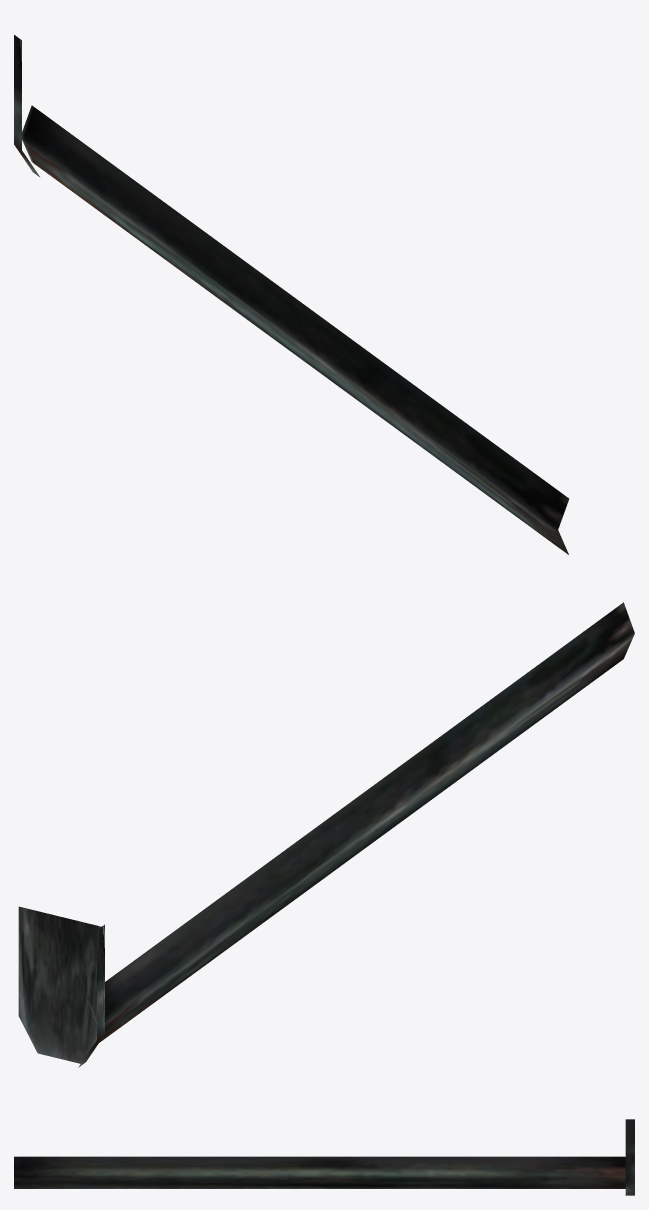
Rendered from pipe.glb.
3 renders of one model, top to bottom at view 1: azimuth 30°, elevation 25°; view 2: azimuth 150°, elevation 25°; view 3: azimuth 270°, elevation 25°, orthographic. The views are drawn at different scales.
Parts seen in each view (by area): view 1: XO_TUNNELPIPELARGE_1B_00; view 2: XO_TUNNELPIPELARGE_1B_00; view 3: XO_TUNNELPIPELARGE_1B_00.
Boxes of the visible parts, x1=… form: XO_TUNNELPIPELARGE_1B_00: x1=14, y1=35, x2=568, y2=554; XO_TUNNELPIPELARGE_1B_00: x1=18, y1=602, x2=634, y2=1067; XO_TUNNELPIPELARGE_1B_00: x1=14, y1=1119, x2=634, y2=1195.
Size of the model in its own units: 0.712 by 1.17 by 8.05.
1 material, 1 textured.
